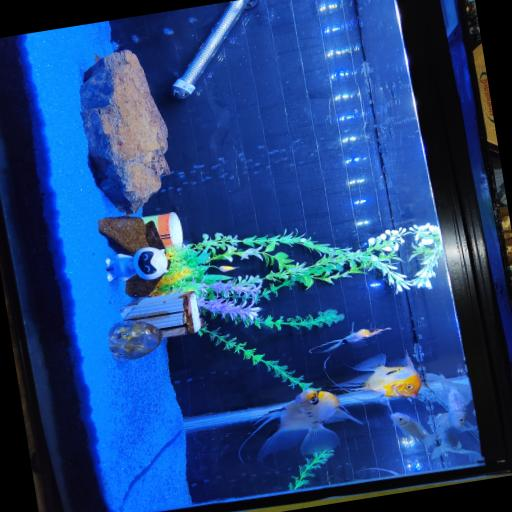Fish: (239, 388, 361, 460), (336, 353, 420, 397), (425, 373, 471, 427), (309, 322, 389, 352), (431, 412, 479, 458), (390, 412, 434, 446), (218, 265, 237, 271)
